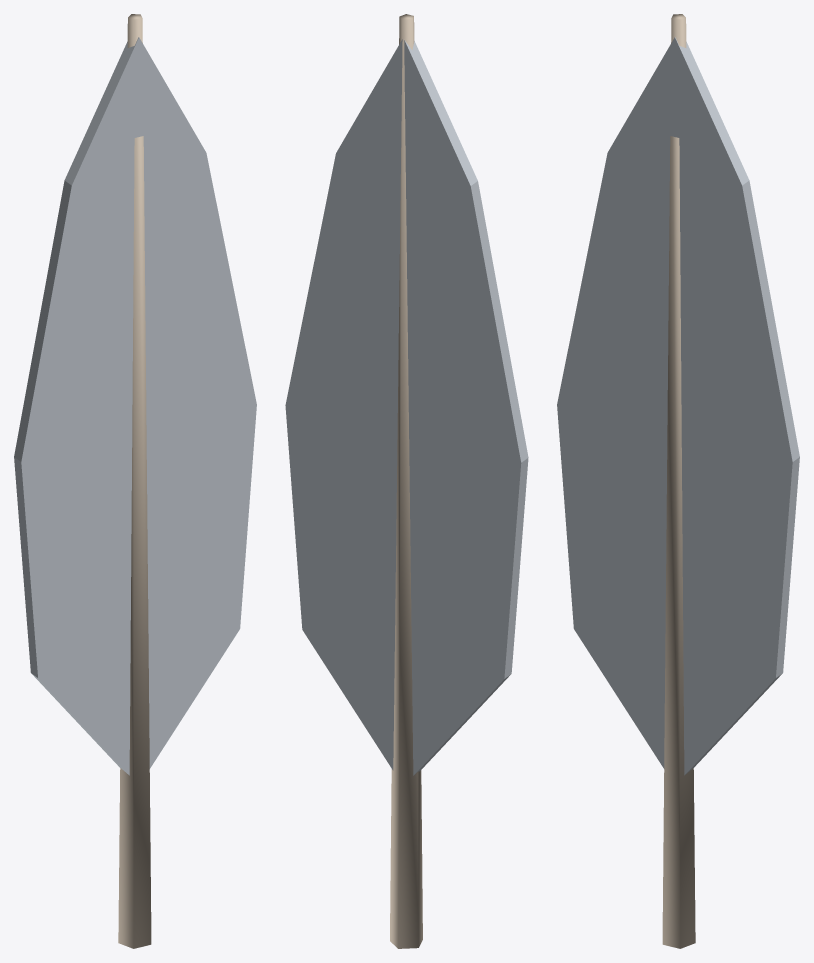
File: xy_item_feather.glb
3 views of the same model, side by side, from view 1: azimuth 30°, elevation 25°; view 2: azimuth 150°, elevation 25°; view 3: azimuth 330°, elevation 25° (orthographic).
Visible parts, largest first — view 1: xy_item_feather; view 2: xy_item_feather; view 3: xy_item_feather.
Boxes of the visible parts, x1,y1,x2,y2 form: xy_item_feather: [14, 14, 256, 948]; xy_item_feather: [285, 14, 528, 948]; xy_item_feather: [557, 14, 799, 948].
Size of the model in its own units: 0.28 by 1.05 by 0.0326.
